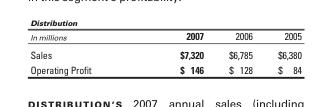table: (29, 29, 300, 75)
table column: (29, 29, 134, 75), (134, 29, 215, 75), (215, 29, 264, 75), (264, 29, 300, 75)
table column header: (29, 29, 300, 45)
table row: (29, 45, 300, 62), (29, 29, 300, 45), (29, 62, 300, 75)
